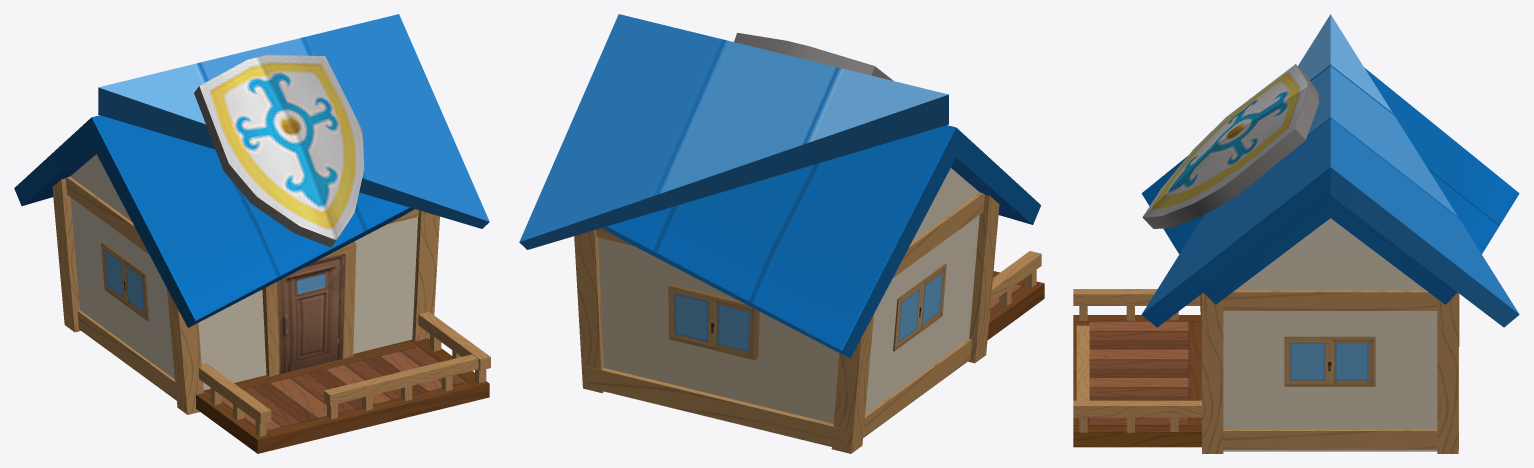
The model's file is building_Armor_lv2.FBX.
3 renders of one model, left to right at view 1: azimuth 30°, elevation 25°; view 2: azimuth 150°, elevation 25°; view 3: azimuth 270°, elevation 25°, orthographic. The views are drawn at different scales.
Visible parts, largest first — view 1: building_Armor_main_lv2, building_Armor_lv2; view 2: building_Armor_main_lv2, building_Armor_lv2; view 3: building_Armor_main_lv2, building_Armor_lv2.
Part boxes in pixels (x1,y1,x2,y2): building_Armor_main_lv2: (14,14,489,400); building_Armor_lv2: (52,54,490,453); building_Armor_main_lv2: (519,14,1040,446); building_Armor_lv2: (574,32,1044,453); building_Armor_main_lv2: (1141,14,1519,451); building_Armor_lv2: (1073,64,1459,453).
Bounding box in the file's own units: 348 × 316 × 420.
